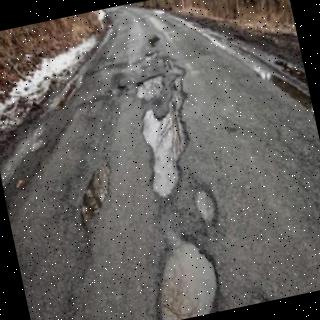pothole: (141, 57, 186, 198), (154, 241, 218, 320), (194, 180, 218, 230), (136, 75, 163, 99)
